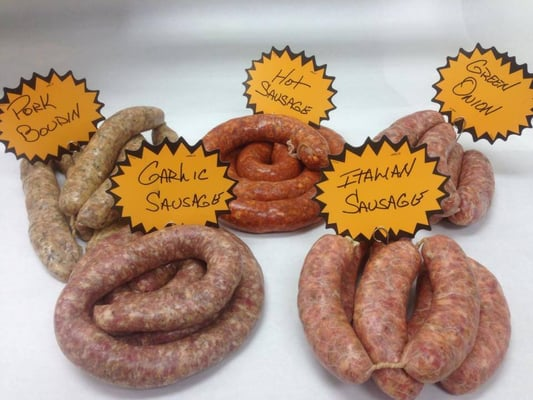salad: (53, 223, 265, 390), (296, 232, 376, 386)
